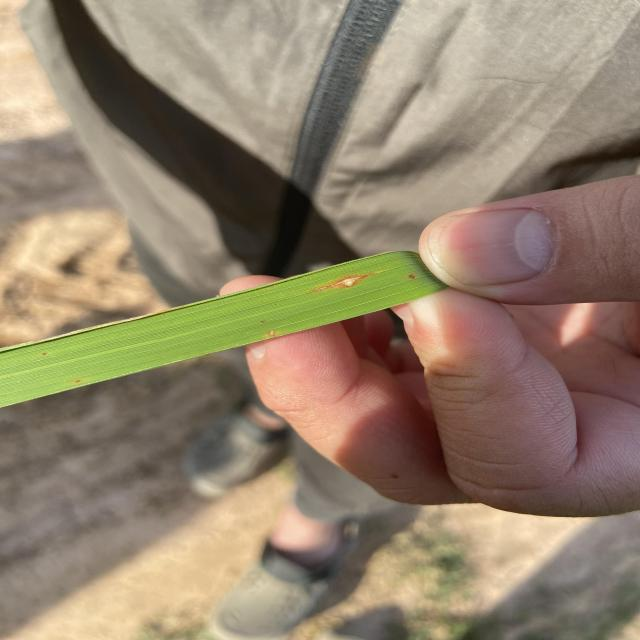Dao on: (317, 274, 370, 288), (268, 330, 276, 337), (410, 274, 415, 278)
